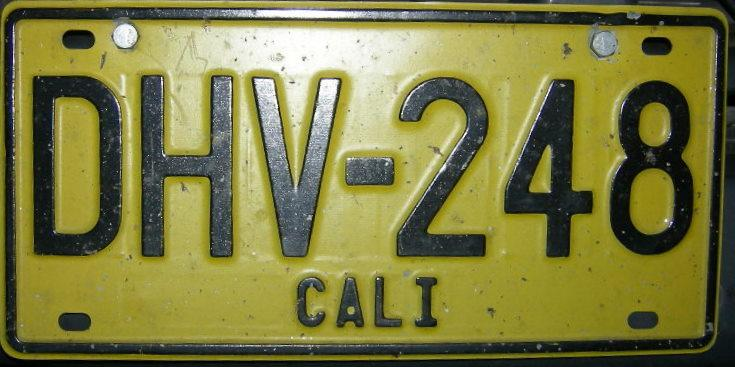placas: (3, 2, 730, 362)
